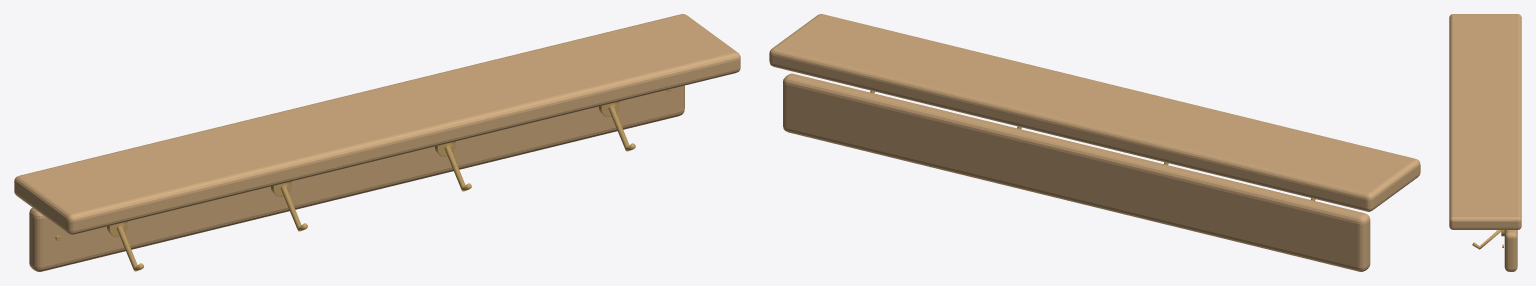
Rendered from Hook_Rail.glb.
3 renders of one model, left to right at view 1: azimuth 30°, elevation 25°; view 2: azimuth 150°, elevation 25°; view 3: azimuth 270°, elevation 25°, orthographic. The views are drawn at different scales.
Parts seen in each view (by area): view 1: Hook_Rail_Mesh; view 2: Hook_Rail_Mesh; view 3: Hook_Rail_Mesh.
Boxes of the visible parts, x1,y1,x2,y2 form: Hook_Rail_Mesh: (14,14,740,271); Hook_Rail_Mesh: (769,14,1420,271); Hook_Rail_Mesh: (1449,14,1521,271).
Size of the model in its own units: 1.52 by 0.203 by 0.226.
